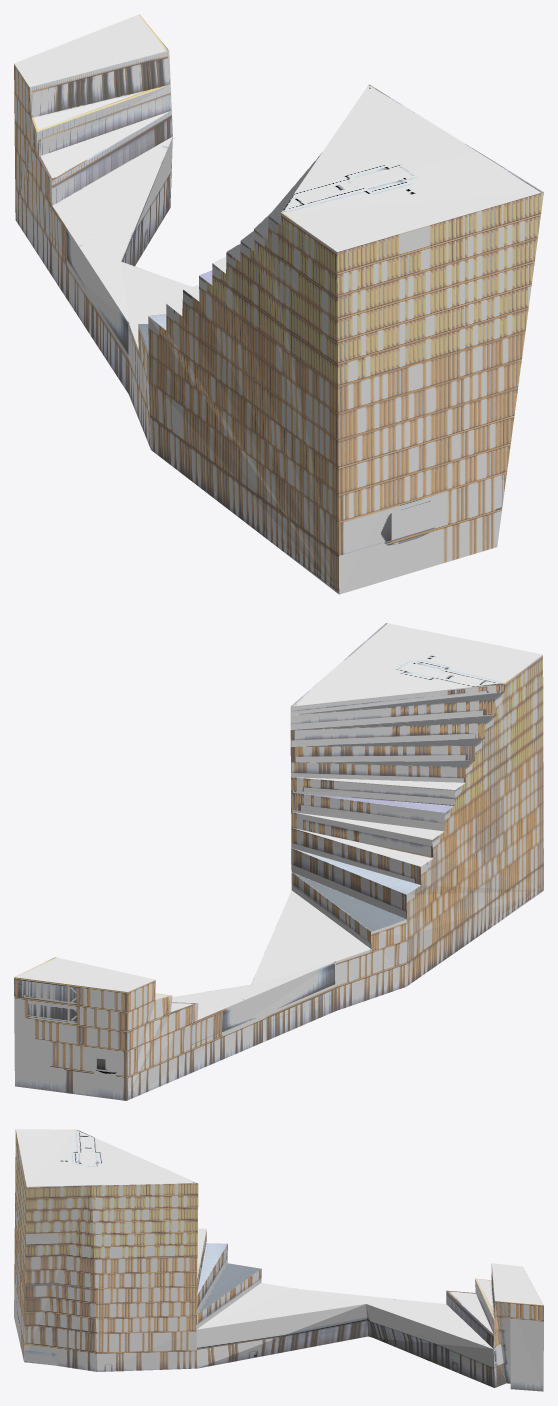
3 renders of one model, top to bottom at view 1: azimuth 30°, elevation 25°; view 2: azimuth 150°, elevation 25°; view 3: azimuth 270°, elevation 25°, orthographic. The views are drawn at different scales.
Visible parts, largest first — view 1: 5.02copy; view 2: 5.02copy; view 3: 5.02copy.
Part boxes in pixels (x1,y1,x2,y2): 5.02copy: (14,14,543,594); 5.02copy: (14,623,543,1100); 5.02copy: (14,1129,543,1391).
Size of the model in its own units: 46.86 by 53.98 by 138.
1 material, 1 textured.
